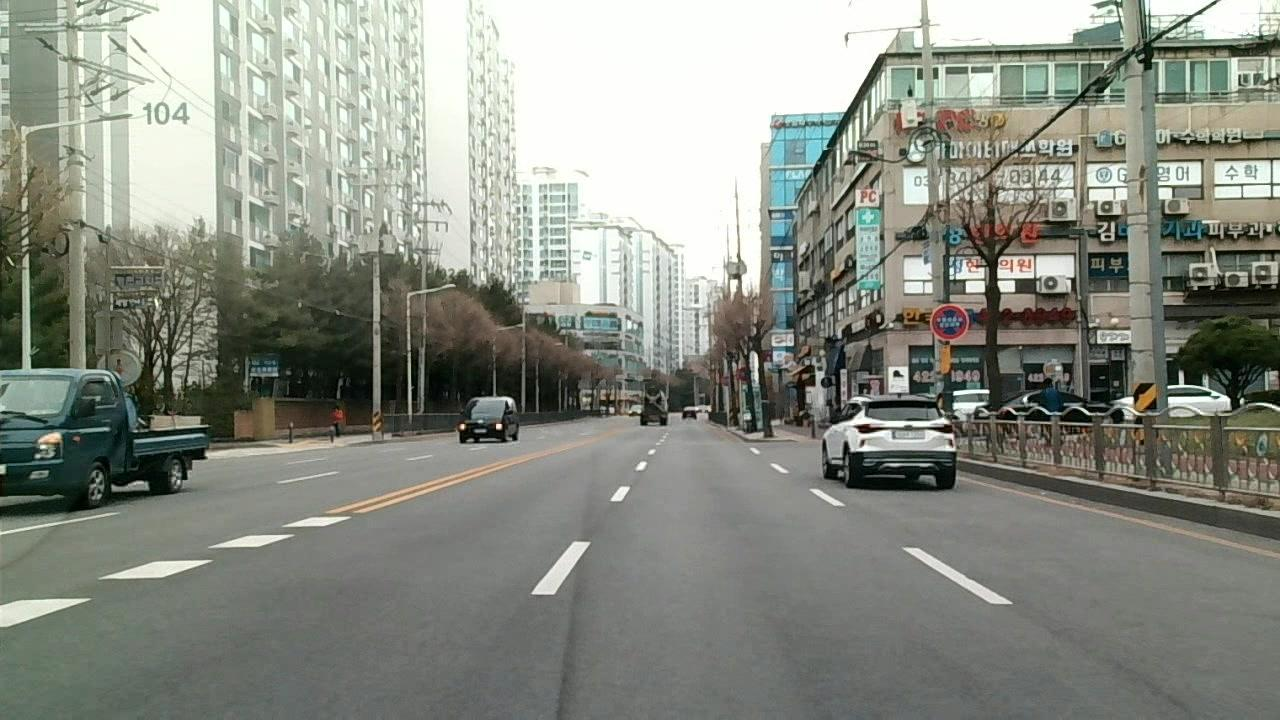banner: (1096, 653, 1209, 720)
